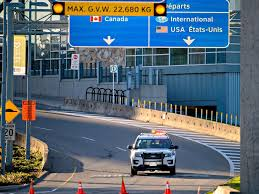car: (129, 131, 178, 175)
cone: (22, 179, 39, 194), (74, 181, 86, 194), (118, 180, 129, 194), (163, 181, 172, 194)
